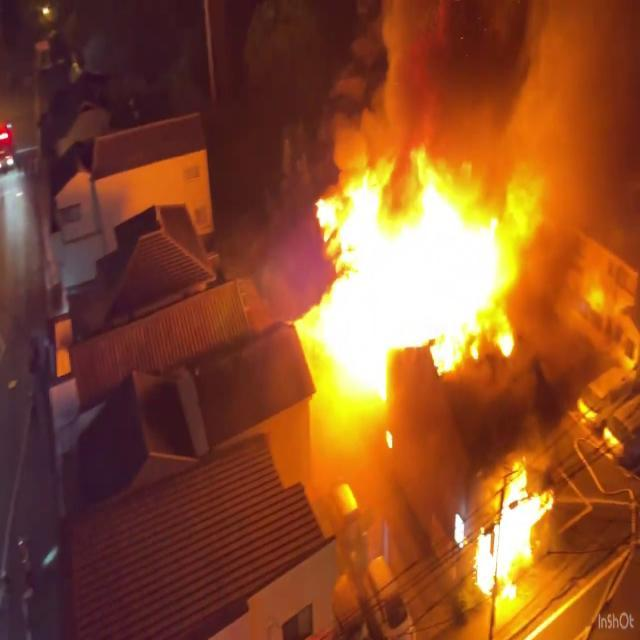Fire: (292, 140, 546, 418), (454, 459, 564, 602)
Smoke: (370, 0, 640, 198)
